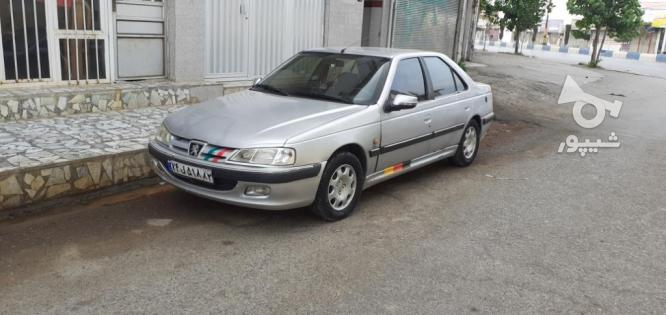car: (162, 158, 214, 183)
